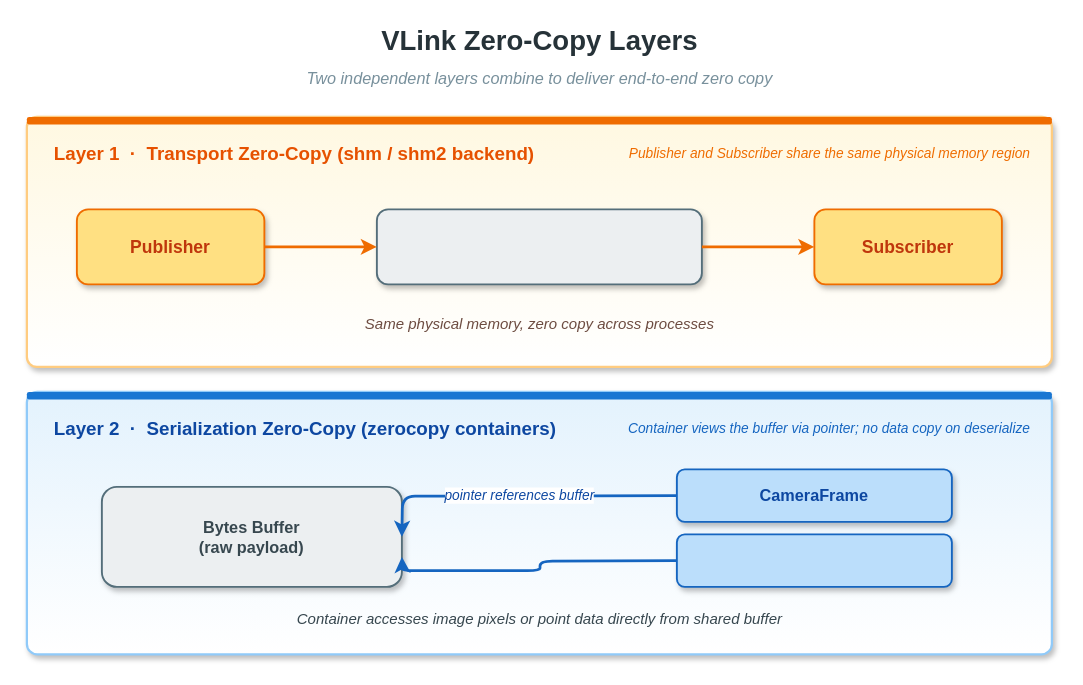
Image size: 1083x685. Some labels were removed from this diagram. Here are the shapes that lost their labels. From the top down, the centre of each, then its label:
At [540,248]: "Shared Memory Loan Buffer".
At [815,562]: "PointCloud".
